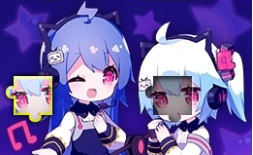gap: (145, 76, 192, 123)
